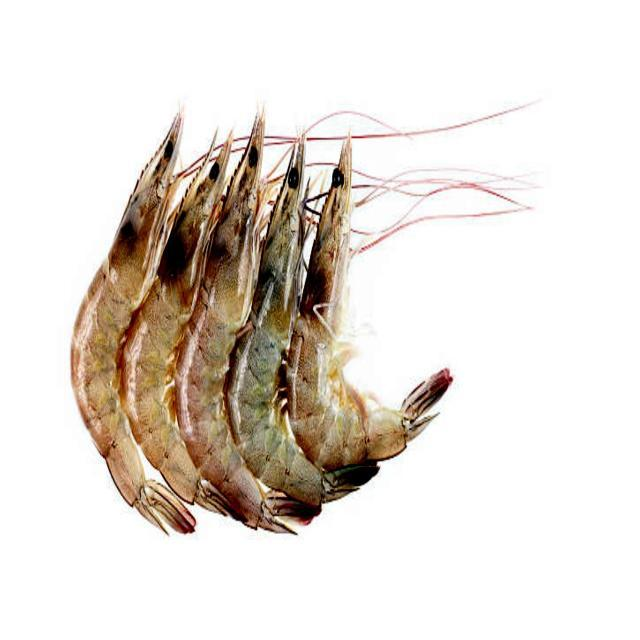shrimp: (176, 114, 313, 532), (227, 137, 377, 511), (286, 137, 449, 470), (71, 114, 193, 531), (121, 135, 231, 513)
